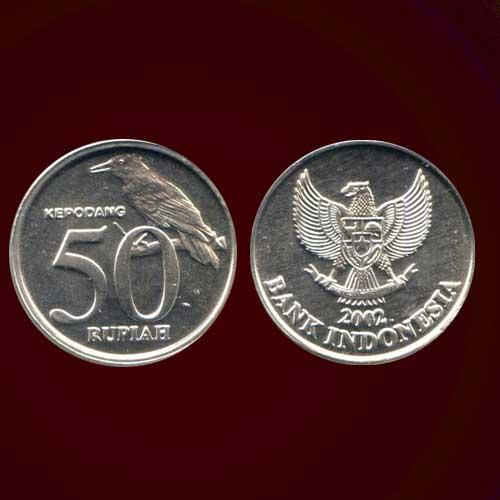coin_50_1999: (249, 133, 482, 366), (9, 138, 238, 363)
